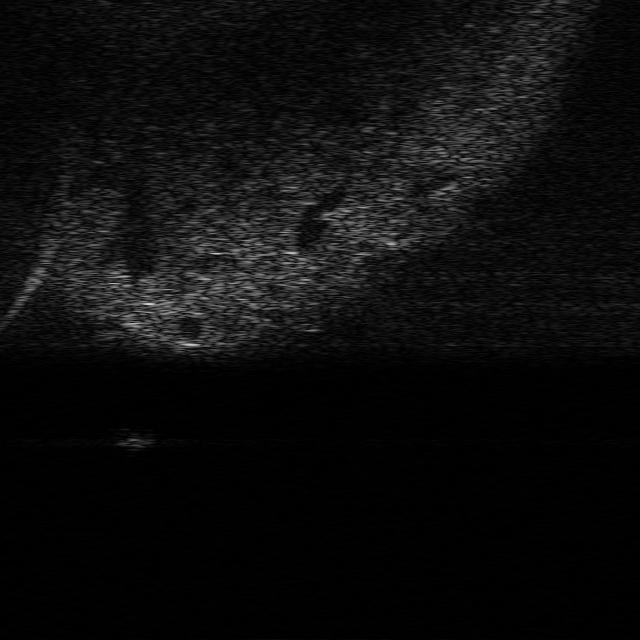cube: (112, 424, 156, 451)
